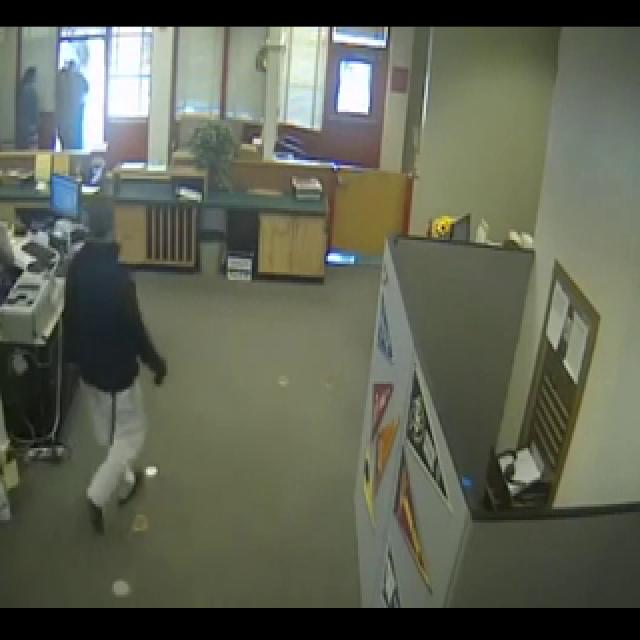arrest: (0, 28, 154, 431)
